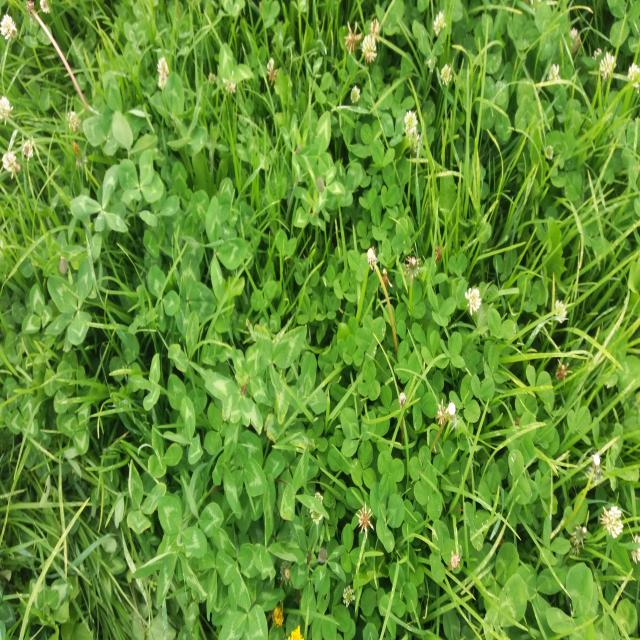Four Leaf Clover: (69, 164, 121, 232), (124, 151, 163, 206)
